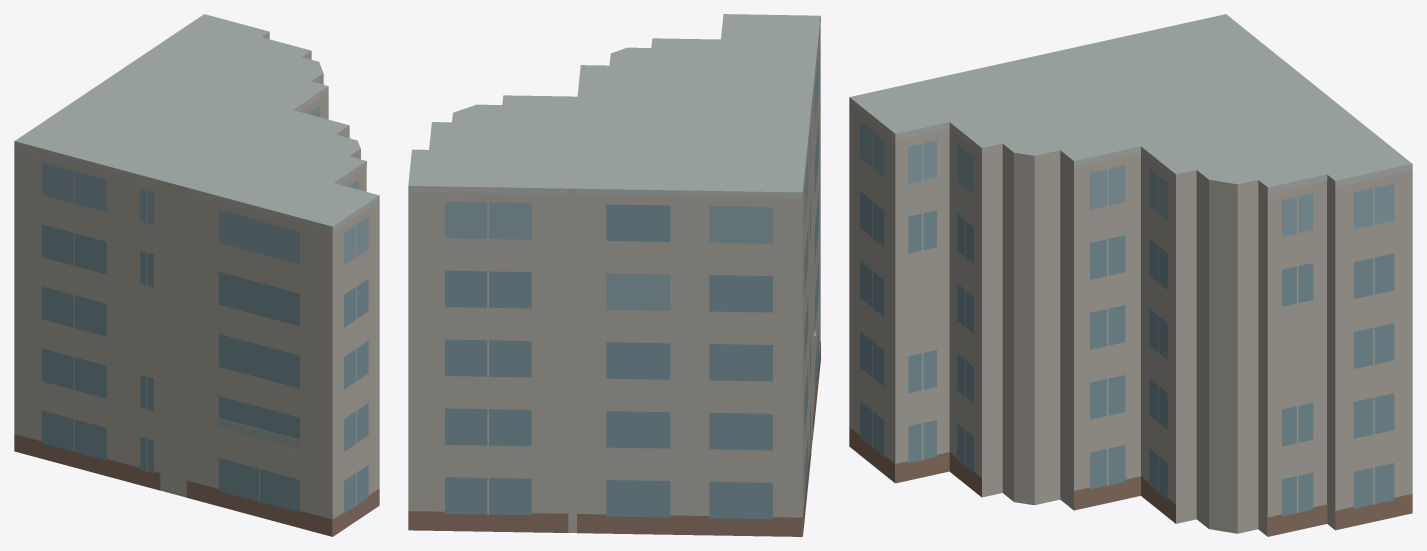
Rendered from survey-upis-32697342.glb.
3 views of the same model, side by side, from view 1: azimuth 30°, elevation 25°; view 2: azimuth 150°, elevation 25°; view 3: azimuth 270°, elevation 25° (orthographic). The views are drawn at different scales.
Visible parts, largest first — view 1: survey-upis-32697342.tmp; view 2: survey-upis-32697342.tmp; view 3: survey-upis-32697342.tmp.
Part boxes in pixels (x1,y1,x2,y2): survey-upis-32697342.tmp: (14,14,379,536); survey-upis-32697342.tmp: (408,14,820,536); survey-upis-32697342.tmp: (849,14,1412,536).
Bounding box in the file's own units: 14.06 × 13.2 × 19.29.
